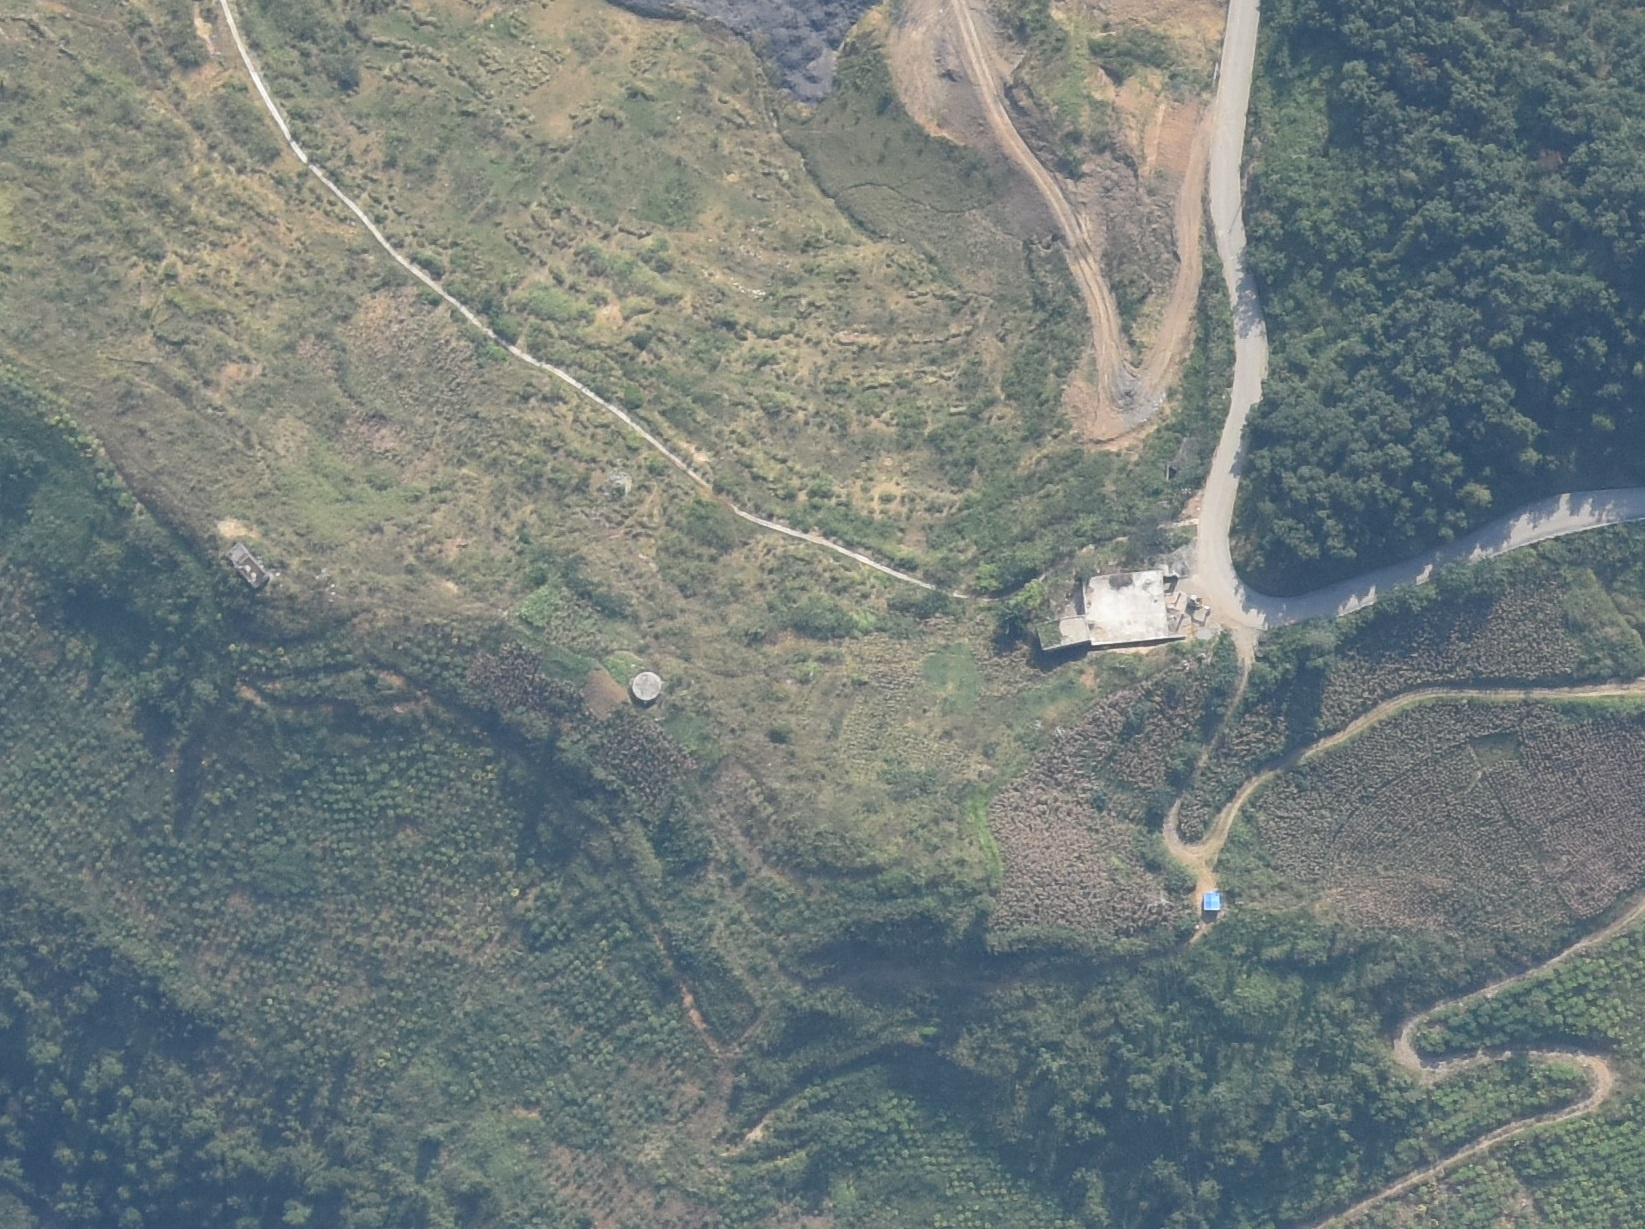building: (1082, 571, 1169, 645), (223, 542, 272, 590), (1036, 616, 1088, 652)
prefabricated-house: (1203, 889, 1220, 911)
well: (633, 673, 661, 704)
